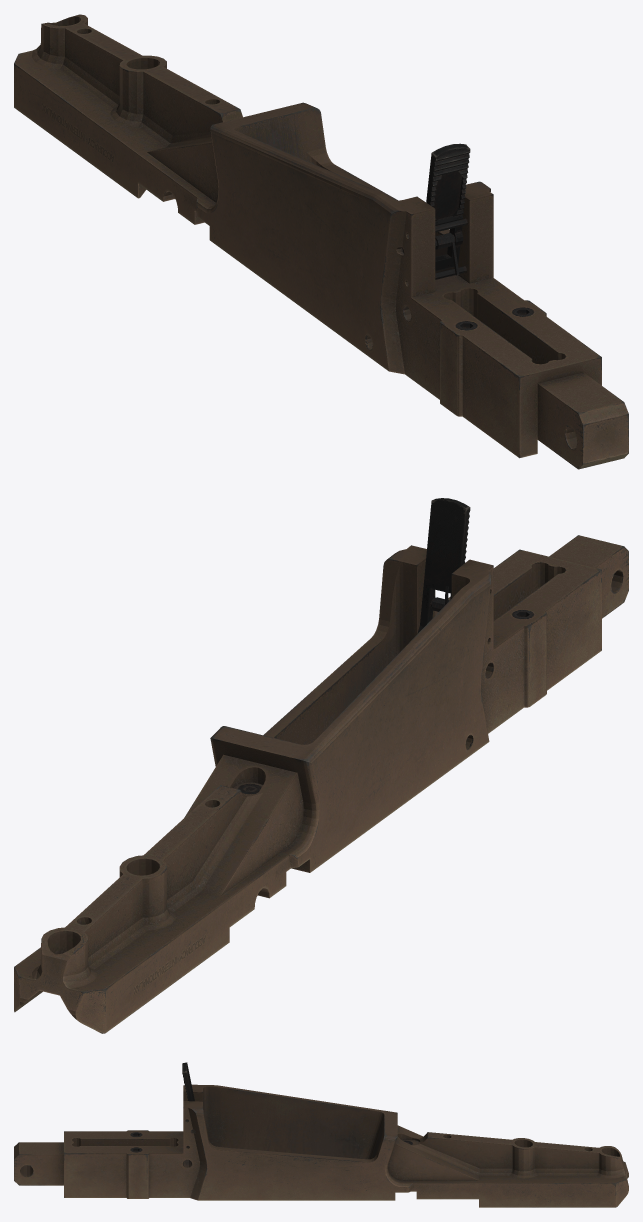
3 renders of one model, top to bottom at view 1: azimuth 30°, elevation 25°; view 2: azimuth 150°, elevation 25°; view 3: azimuth 270°, elevation 25°, orthographic. The views are drawn at different scales.
Visible parts, largest first — view 1: TW_6281204f308cb521f87a8f9b_PZ_Import; view 2: TW_6281204f308cb521f87a8f9b_PZ_Import; view 3: TW_6281204f308cb521f87a8f9b_PZ_Import.
Boxes of the visible parts, bbox=[...] form: TW_6281204f308cb521f87a8f9b_PZ_Import: bbox=[14, 14, 628, 469]; TW_6281204f308cb521f87a8f9b_PZ_Import: bbox=[14, 498, 628, 1033]; TW_6281204f308cb521f87a8f9b_PZ_Import: bbox=[14, 1062, 628, 1207].
Size of the model in its own units: 0.0225 by 0.2159 by 0.0505.
Materials: 1 (1 with a texture image).
